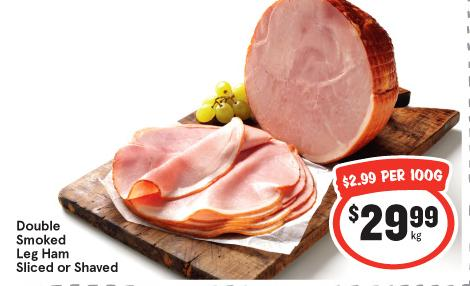description_block: (10, 205, 125, 275)
price_main: (331, 192, 455, 265)
product_image_block: (71, 6, 356, 258)
unit_price_block: (326, 157, 457, 195)
